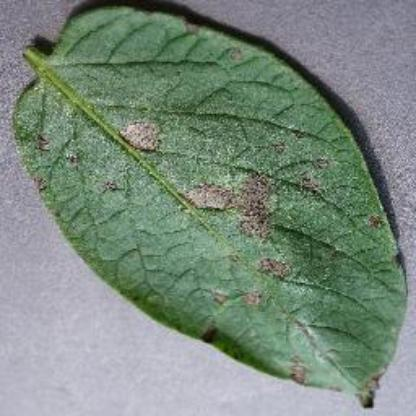Early-Blight: (14, 5, 404, 406)
